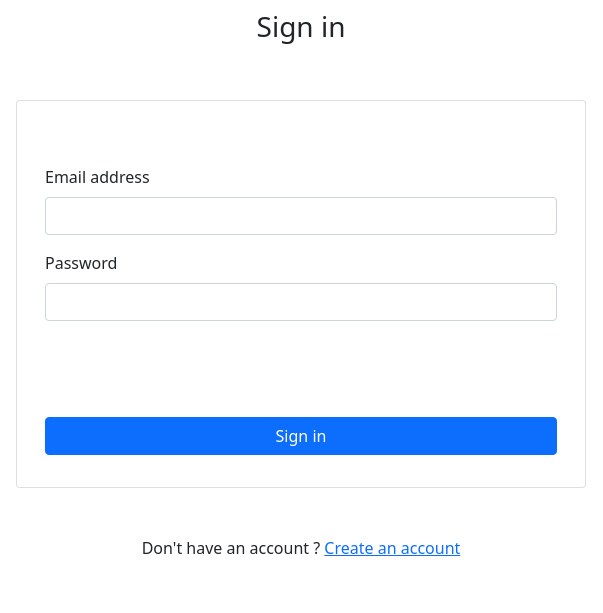
Scenario: LoginForm › should throw error if email is invalid
The width and height of the screenshot is (603, 613).
Type "test@test" into the field with test id "email".
click(301, 216); type("test@test")  # box [45,197,557,235]
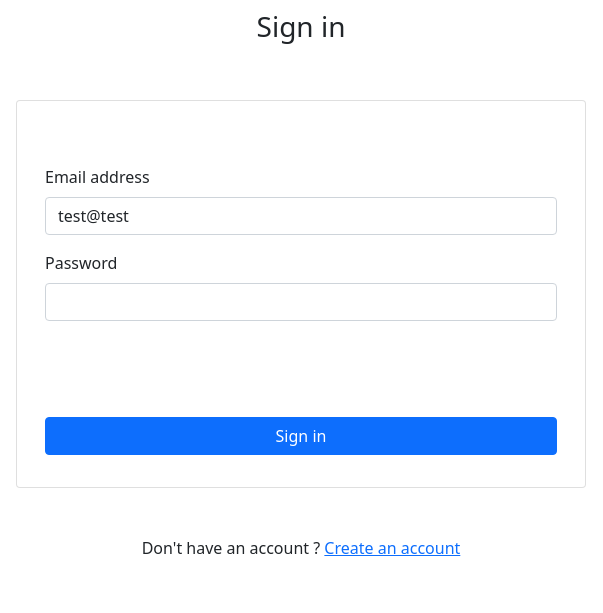
Type "secret" into the password field with test id "password".
click(301, 302); type("secret")  # box [45,283,557,321]
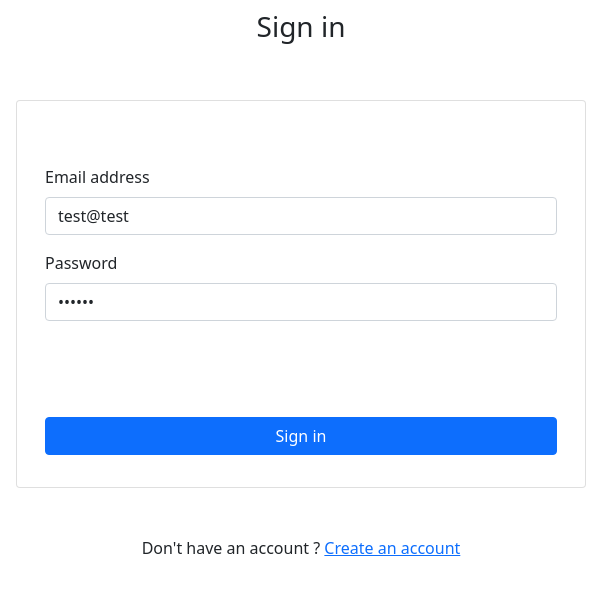
Click the button with test id "button".
click(301, 436)  # box [45,417,557,455]
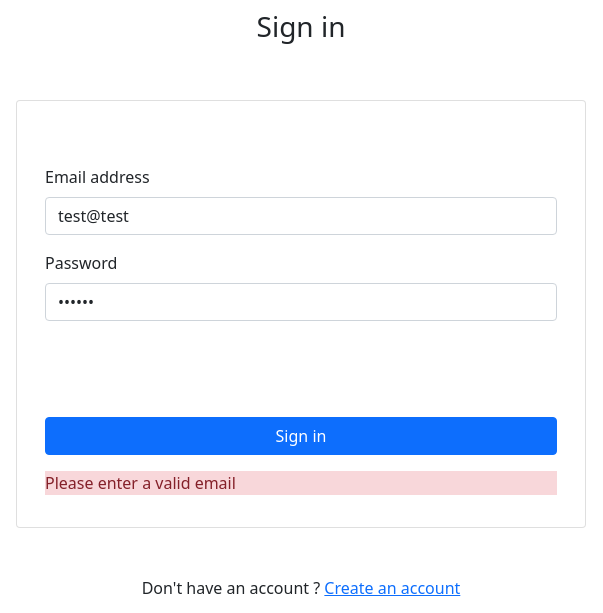
Now the text with test id "error" reads "Please enter a valid email", box [45,472,236,494]
